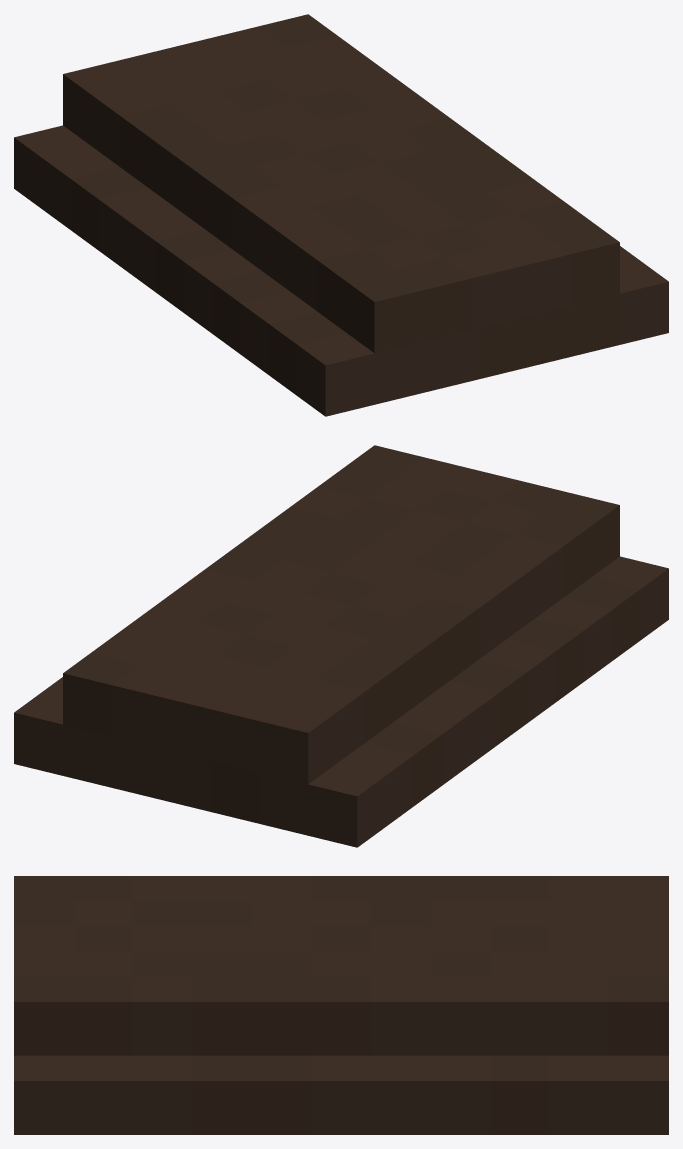
File: farm-56-crop_mid.obj
3 views of the same model, one above another, from view 1: azimuth 30°, elevation 25°; view 2: azimuth 150°, elevation 25°; view 3: azimuth 270°, elevation 25° (orthographic). The views are drawn at different scales.
Visible parts, largest first — view 1: crop_mid; view 2: crop_mid; view 3: crop_mid.
Part boxes in pixels (x1,y1,x2,y2): crop_mid: (14, 14, 668, 416); crop_mid: (14, 445, 668, 847); crop_mid: (14, 876, 668, 1134).
Size of the model in its own units: 0.7 by 0.2 by 1.1.
1 material, 1 textured.
